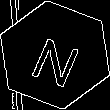N_N: (25, 24, 85, 86)
